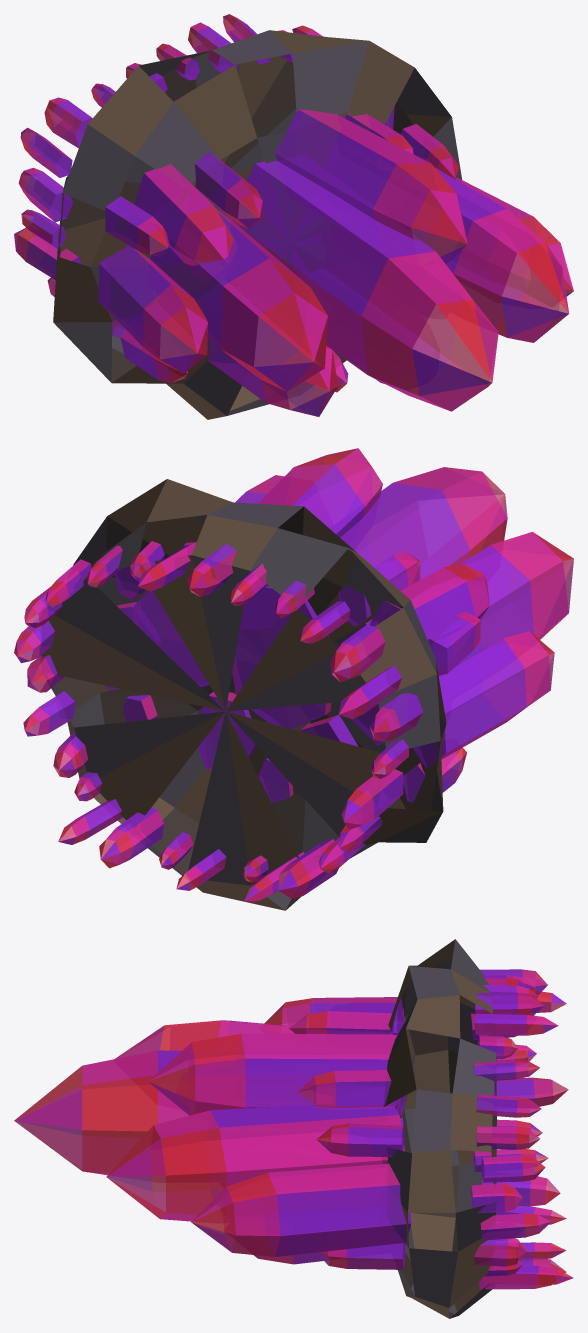
Rendered from planet_fragment.fbx.
3 views of the same model, one above another, from view 1: azimuth 30°, elevation 25°; view 2: azimuth 150°, elevation 25°; view 3: azimuth 270°, elevation 25° (orthographic). The views are drawn at different scales.
Parts seen in each view (by area): view 1: Rock_Base, Main_Crystal_Center, Main_Crystal_Left, Main_Crystal_Rear, Main_Crystal_Right, Main_Crystal_Far_Left, Main_Crystal_Side, Main_Crystal_Far_Right, Main_Crystal_Front_Left, Top_Small_Crystal_02, Top_Small_Crystal_01, Underside_Crystal_14 (+10 smaller); view 2: Rock_Base, Main_Crystal_Center, Main_Crystal_Left, Main_Crystal_Far_Left, Main_Crystal_Rear, Main_Crystal_Side, Main_Crystal_Right, Underside_Crystal_24, Underside_Crystal_16, Top_Small_Crystal_01, Underside_Crystal_12, Top_Small_Crystal_02 (+31 smaller); view 3: Rock_Base, Main_Crystal_Right, Main_Crystal_Center, Main_Crystal_Far_Right, Main_Crystal_Rear, Top_Small_Crystal_03, Main_Crystal_Left, Main_Crystal_Side, Top_Small_Crystal_04, Top_Small_Crystal_02, Top_Small_Crystal_06, Underside_Crystal_07 (+18 smaller).
Boxes of the visible parts, box(x1,y1,x2,y2) form: Rock_Base: box(53, 30, 462, 419); Main_Crystal_Center: box(233, 155, 498, 411); Main_Crystal_Left: box(147, 194, 327, 391); Main_Crystal_Rear: box(275, 109, 467, 265); Main_Crystal_Right: box(344, 158, 569, 342); Main_Crystal_Far_Left: box(98, 245, 207, 373); Main_Crystal_Side: box(134, 164, 237, 280); Main_Crystal_Far_Right: box(452, 177, 573, 296); Main_Crystal_Front_Left: box(207, 338, 338, 416); Top_Small_Crystal_02: box(195, 152, 262, 228); Top_Small_Crystal_01: box(105, 196, 169, 257); Underside_Crystal_14: box(18, 167, 73, 222); Rock_Base: box(41, 479, 446, 910); Main_Crystal_Center: box(232, 467, 507, 728); Main_Crystal_Left: box(338, 532, 573, 745); Main_Crystal_Far_Left: box(412, 631, 554, 767); Main_Crystal_Rear: box(240, 448, 382, 629); Main_Crystal_Side: box(370, 564, 489, 639); Main_Crystal_Right: box(132, 475, 284, 687); Underside_Crystal_24: box(99, 807, 163, 868); Underside_Crystal_16: box(341, 769, 403, 829); Top_Small_Crystal_01: box(428, 611, 480, 675); Underside_Crystal_12: box(330, 624, 385, 682); Top_Small_Crystal_02: box(338, 552, 420, 626); Rock_Base: box(382, 939, 496, 1318); Main_Crystal_Right: box(106, 1102, 404, 1221); Main_Crystal_Center: box(14, 1050, 386, 1175); Main_Crystal_Far_Right: box(191, 1163, 411, 1256); Main_Crystal_Rear: box(148, 1033, 397, 1115); Top_Small_Crystal_03: box(297, 1070, 397, 1109); Main_Crystal_Left: box(115, 1020, 400, 1112); Main_Crystal_Side: box(260, 997, 404, 1039); Top_Small_Crystal_04: box(316, 1123, 404, 1156); Top_Small_Crystal_02: box(289, 1011, 393, 1034); Top_Small_Crystal_06: box(316, 1243, 405, 1269); Underside_Crystal_07: box(474, 1013, 558, 1035).
Size of the model in its own units: 95.33 by 86.33 by 135.
